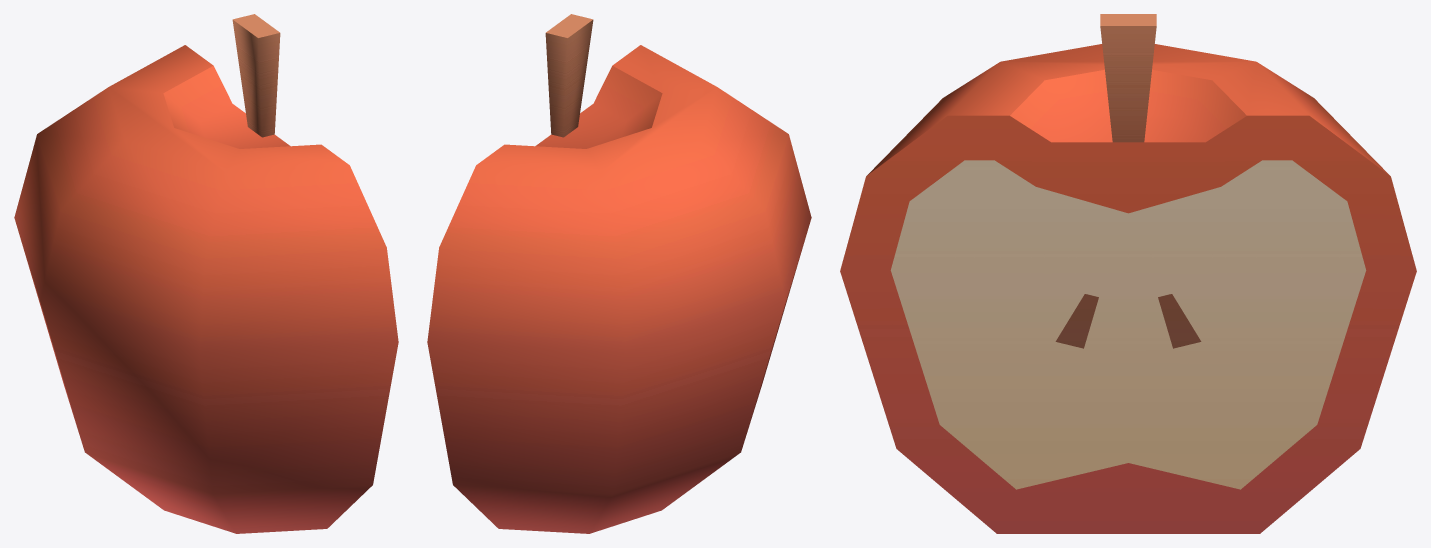
File: apple-half.glb
3 views of the same model, side by side, from view 1: azimuth 30°, elevation 25°; view 2: azimuth 150°, elevation 25°; view 3: azimuth 270°, elevation 25° (orthographic). The views are drawn at different scales.
Parts seen in each view (by area): view 1: apple-half; view 2: apple-half; view 3: apple-half.
Boxes of the visible parts, x1=… form: apple-half: x1=14, y1=14, x2=398, y2=533; apple-half: x1=427, y1=14, x2=811, y2=533; apple-half: x1=840, y1=14, x2=1416, y2=533.
Size of the model in its own units: 0.0982 by 0.1908 by 0.1963.
1 material, 1 textured.
